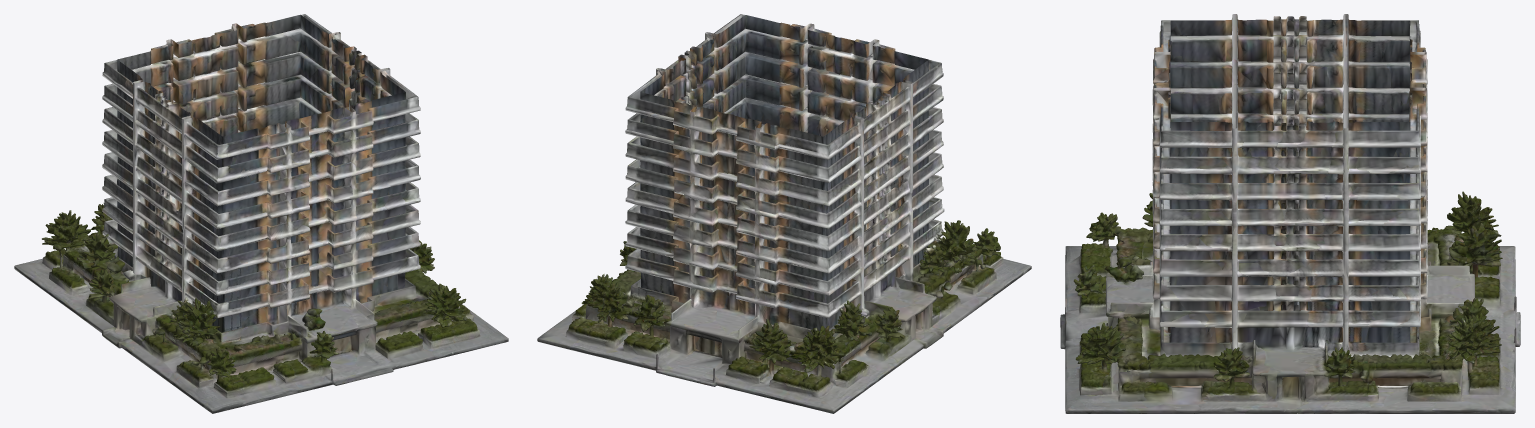
Rendered from building-stage-1.glb.
The picture shows the model from 3 angles, left to right: view 1: azimuth 30°, elevation 25°; view 2: azimuth 150°, elevation 25°; view 3: azimuth 270°, elevation 25°; orthographic projection. The views are drawn at different scales.
Visible parts, largest first — view 1: stage_1_lower_third, stage_0_ground; view 2: stage_1_lower_third, stage_0_ground; view 3: stage_1_lower_third, stage_0_ground.
Boxes of the visible parts, x1=… form: stage_1_lower_third: x1=42, y1=14, x2=476, y2=386; stage_0_ground: x1=14, y1=249, x2=508, y2=413; stage_1_lower_third: x1=569, y1=14, x2=1000, y2=386; stage_0_ground: x1=537, y1=249, x2=1031, y2=413; stage_1_lower_third: x1=1073, y1=14, x2=1516, y2=389; stage_0_ground: x1=1060, y1=245, x2=1520, y2=413.
Bounding box in the file's own units: 0.9084 × 0.6667 × 1.07.
1 material, 1 textured.
